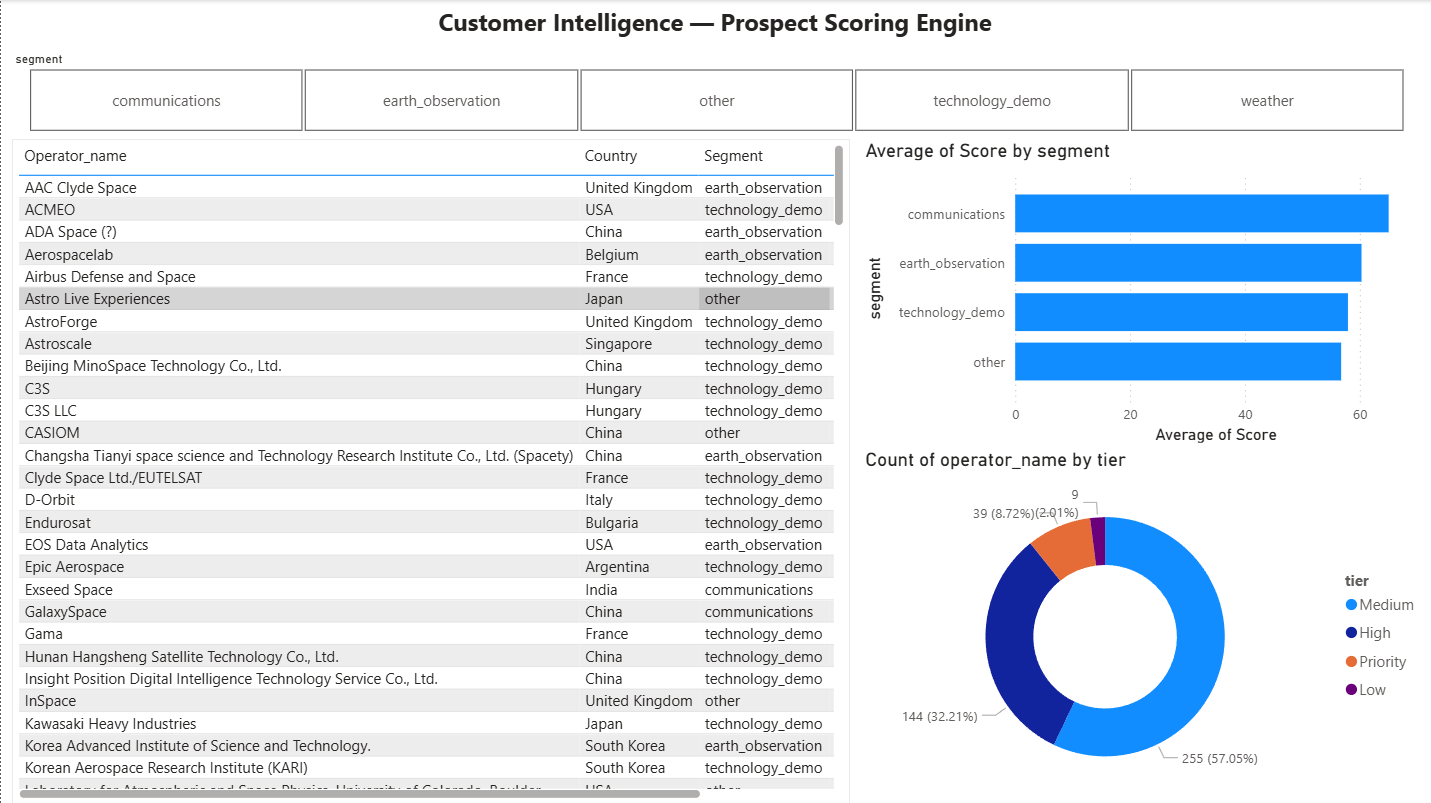

This screenshot's page, from the dashboard's own definition file:
{"tool":"powerbi","page":{"name":"Customer Intelligence","canvas":[1280,720],"ordinal":0},"visuals":[{"type":"tableEx","fields":{"Values":["customer_scores.operator_name","customer_scores.country","customer_scores.segment","Sum(customer_scores.total_satellites)","Sum(customer_scores.prospect_score)","customer_scores.tier"]},"box":[10.2,124.1,750.4,595.6],"z":0},{"type":"clusteredBarChart","fields":{"Category":["customer_scores.segment"],"Y":["Avg(customer_scores.prospect_score)"]},"box":[769.3,124.1,511,277.4],"z":1000},{"type":"donutChart","fields":{"Category":["customer_scores.tier"],"Y":["CountNonNull(customer_scores.operator_name)"]},"box":[769,401,511,319],"z":2000},{"type":"slicer","fields":{"Values":["customer_scores.segment"]},"box":[0,40.9,1280.3,83.2],"z":3000},{"type":"textbox","box":[319.7,0,639.4,40.9],"z":4000}]}

Visuals, with their boxes in screenshot pixels (x1, y1, x2, y2), scaled from the page's 1280x720 canvas onto the 1431x803 screenshot:
tableEx - customer_scores.operator_name x customer_scores.country: [11, 138, 850, 802]
clusteredBarChart - customer_scores.segment x Avg(customer_scores.prospect_score): [860, 138, 1430, 448]
donutChart - customer_scores.tier x CountNonNull(customer_scores.operator_name): [860, 447, 1430, 802]
slicer - customer_scores.segment: [0, 46, 1430, 138]
textbox: [357, 0, 1072, 46]
